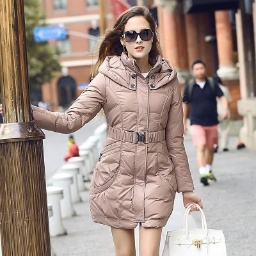face: (99, 6, 166, 62)
